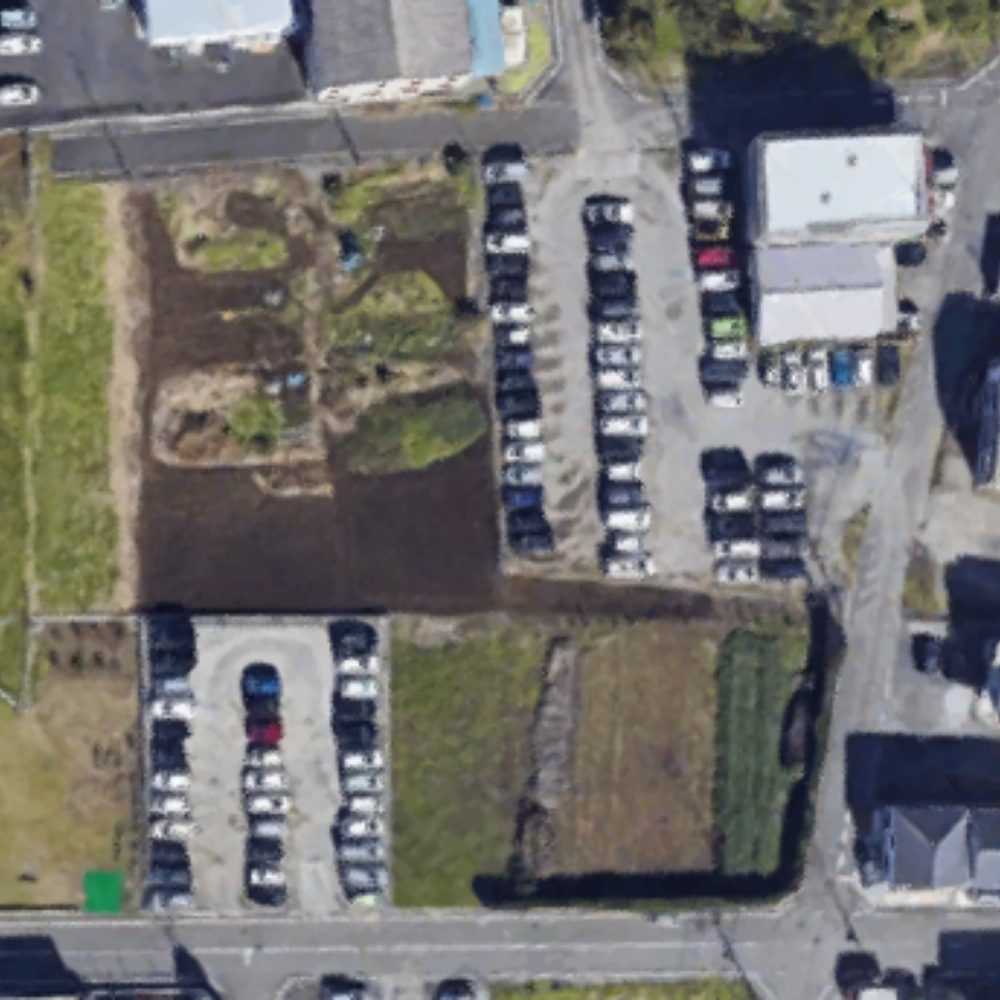parking: (480, 160, 905, 585), (145, 620, 385, 905)
